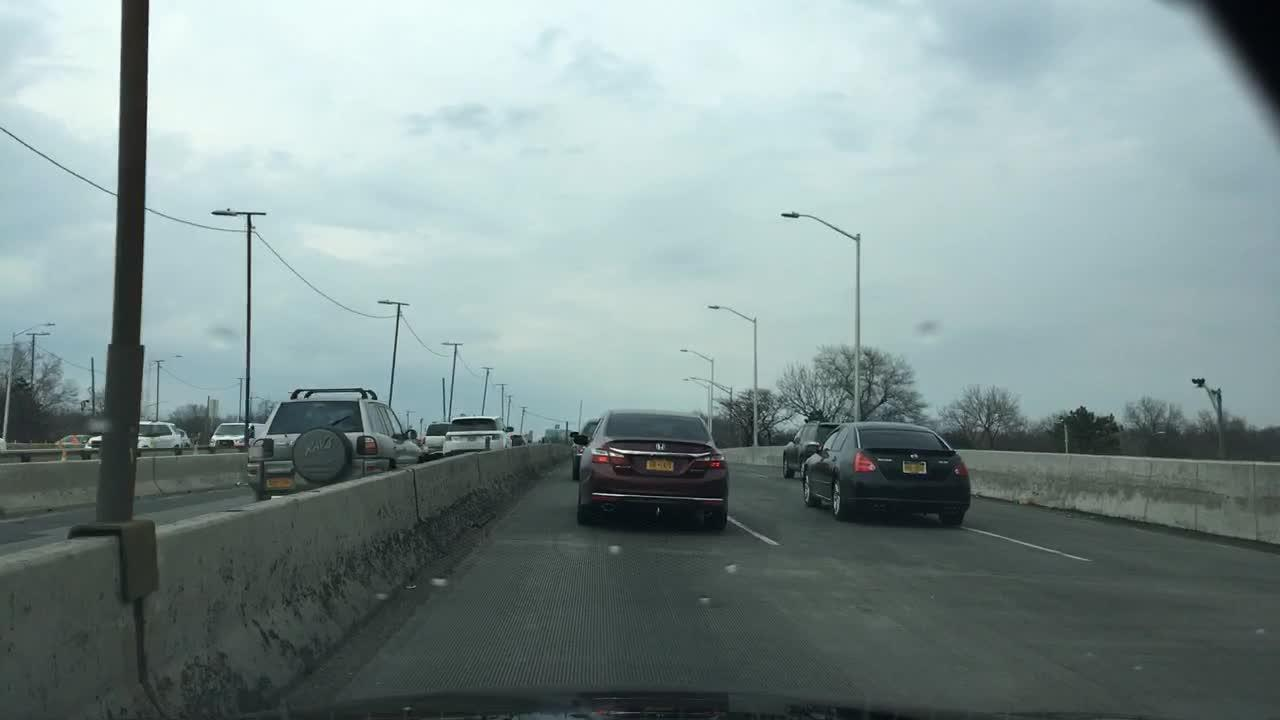Honda: (650, 438, 669, 457)
